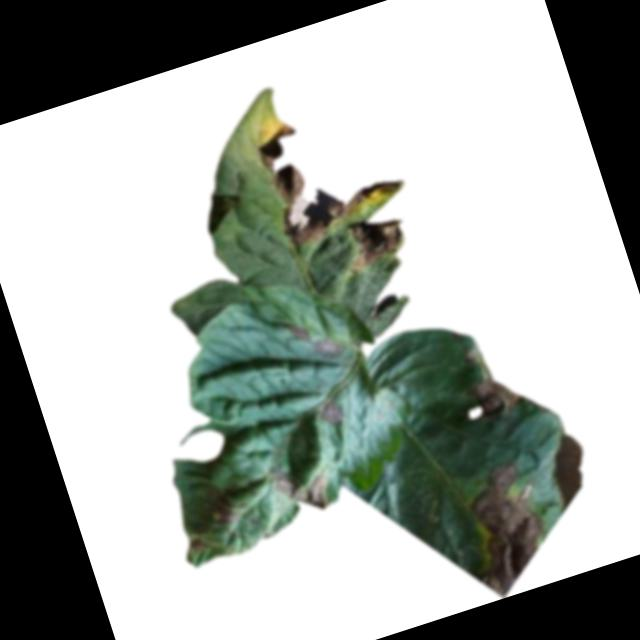Early_blight: (243, 84, 412, 250), (450, 455, 563, 602), (337, 208, 413, 275), (269, 454, 338, 521), (463, 362, 527, 424), (285, 310, 347, 368), (200, 493, 242, 533), (315, 393, 346, 427), (186, 533, 208, 554)
